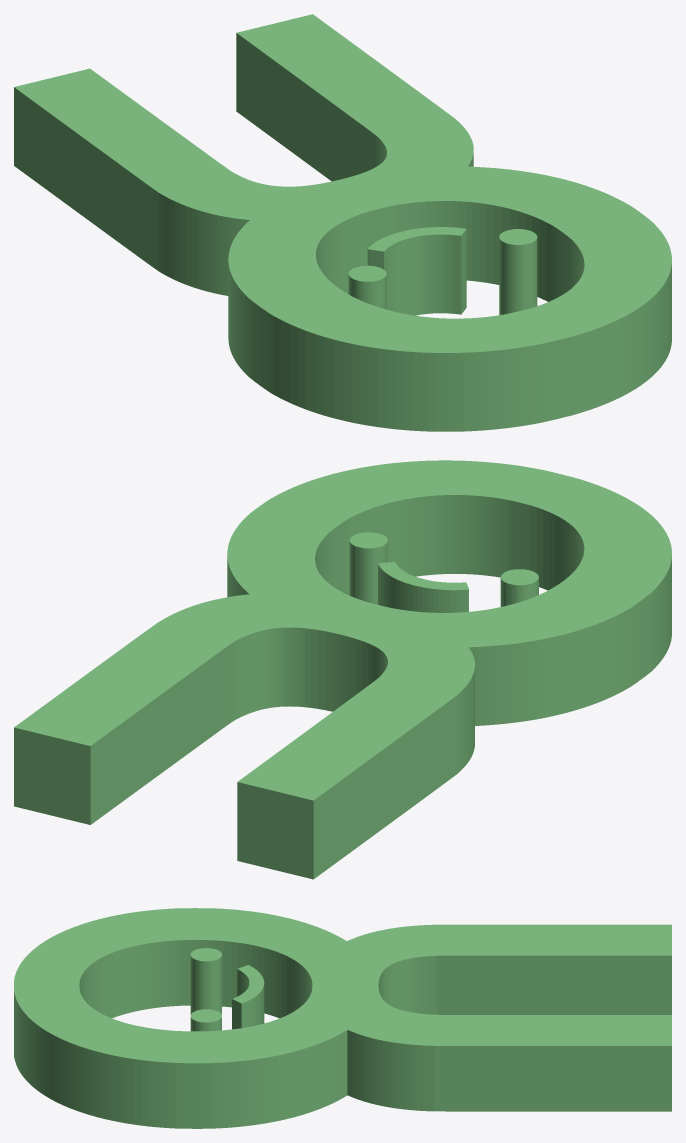
The model's file is taito_hymy.dae.
3 views of the same model, one above another, from view 1: azimuth 30°, elevation 25°; view 2: azimuth 150°, elevation 25°; view 3: azimuth 270°, elevation 25° (orthographic). The views are drawn at different scales.
Visible parts, largest first — view 1: Learning_the_Moves; view 2: Learning_the_Moves; view 3: Learning_the_Moves.
Part boxes in pixels (x1=…): Learning_the_Moves: x1=14, y1=14, x2=671, y2=431; Learning_the_Moves: x1=14, y1=460, x2=671, y2=879; Learning_the_Moves: x1=14, y1=908, x2=671, y2=1128.
Size of the model in its own units: 20.3 by 36.38 by 4.
